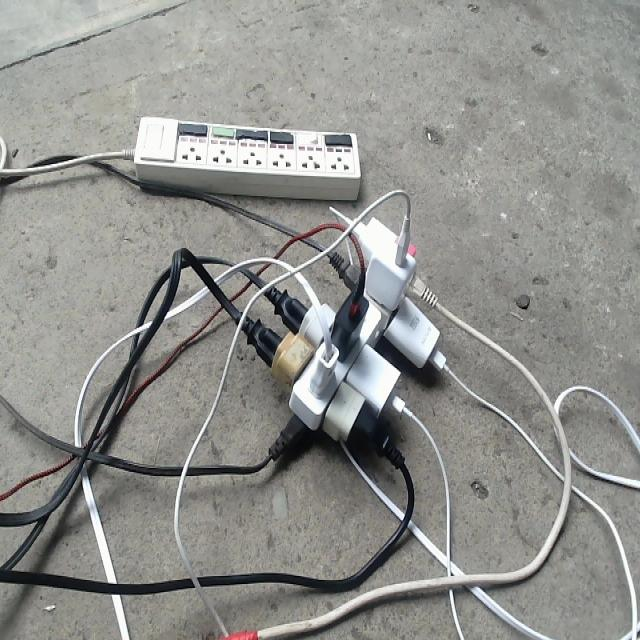-: (234, 188, 448, 469)
